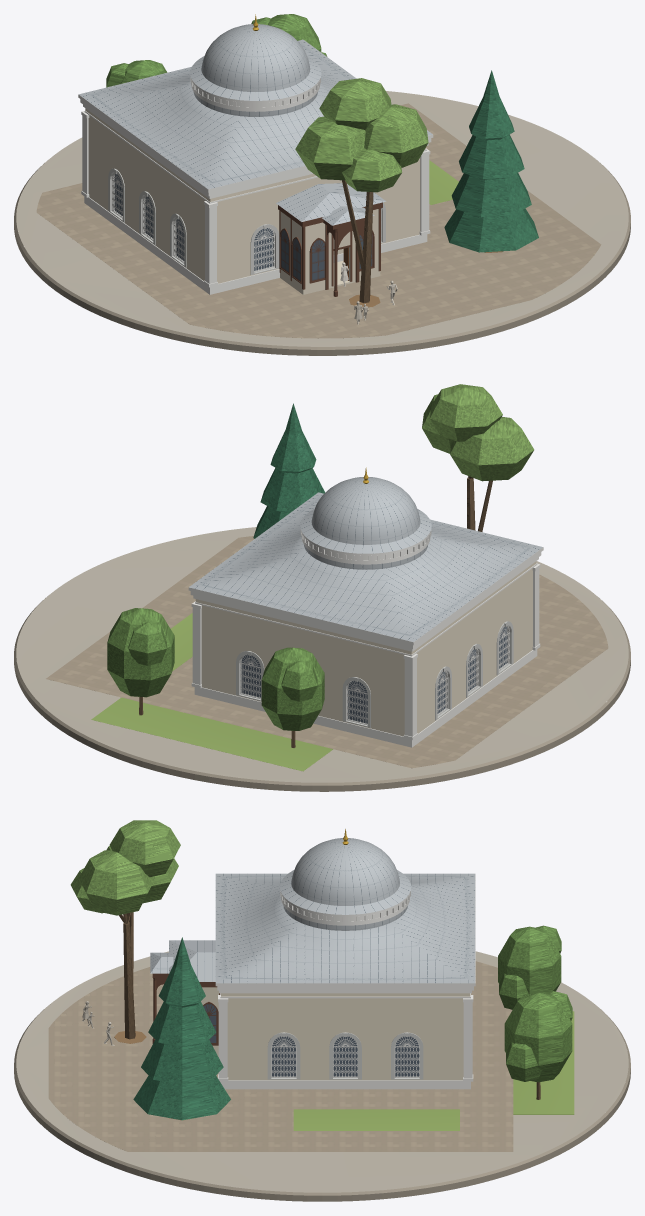
The model's file is orhan-gazi-turbesi_v05_sunum.glb.
3 renders of one model, top to bottom at view 1: azimuth 30°, elevation 25°; view 2: azimuth 150°, elevation 25°; view 3: azimuth 270°, elevation 25°, orthographic.
Visible parts, largest first — view 1: Zemin_Doseme, Zemin_Kaide, Govde, Kubbe, Cevre_Agac_01, Cevre_Agac_04, Giris_Holu, Zemin_Cim, Cevre_Agac_02, Cevre_Agac_03; view 2: Zemin_Kaide, Govde, Kubbe, Zemin_Doseme, Cevre_Agac_01, Zemin_Cim, Cevre_Agac_02, Cevre_Agac_03, Cevre_Agac_04; view 3: Zemin_Doseme, Zemin_Kaide, Kubbe, Govde, Cevre_Agac_04, Cevre_Agac_01, Zemin_Cim, Cevre_Agac_02, Cevre_Agac_03, Giris_Holu.
Part boxes in pixels (bbox=[...]): Zemin_Doseme: bbox=[36, 103, 601, 338]; Zemin_Kaide: bbox=[14, 91, 630, 355]; Govde: bbox=[78, 94, 433, 294]; Kubbe: bbox=[79, 14, 432, 189]; Cevre_Agac_01: bbox=[295, 78, 428, 303]; Cevre_Agac_04: bbox=[444, 70, 538, 252]; Giris_Holu: bbox=[276, 183, 386, 296]; Zemin_Cim: bbox=[349, 160, 502, 307]; Cevre_Agac_02: bbox=[251, 14, 327, 56]; Cevre_Agac_03: bbox=[106, 60, 167, 87]; Zemin_Kaide: bbox=[14, 527, 630, 791]; Govde: bbox=[188, 547, 543, 747]; Kubbe: bbox=[189, 467, 542, 641]; Zemin_Doseme: bbox=[46, 536, 608, 768]; Cevre_Agac_01: bbox=[422, 384, 534, 531]; Zemin_Cim: bbox=[91, 613, 333, 771]; Cevre_Agac_02: bbox=[107, 608, 174, 715]; Cevre_Agac_03: bbox=[261, 647, 324, 747]; Cevre_Agac_04: bbox=[253, 403, 325, 538]; Zemin_Doseme: bbox=[48, 961, 513, 1151]; Zemin_Kaide: bbox=[14, 951, 630, 1201]; Kubbe: bbox=[215, 829, 475, 983]; Govde: bbox=[215, 874, 475, 1089]; Cevre_Agac_04: bbox=[133, 937, 230, 1120]; Cevre_Agac_01: bbox=[70, 820, 180, 1039]; Zemin_Cim: bbox=[114, 1011, 574, 1130]; Cevre_Agac_02: bbox=[504, 991, 572, 1099]; Cevre_Agac_03: bbox=[498, 925, 561, 1009]; Giris_Holu: bbox=[150, 940, 220, 1055].
Bounding box in the file's own units: 41.56 × 16.5 × 41.56.
24 materials, 9 textured.
